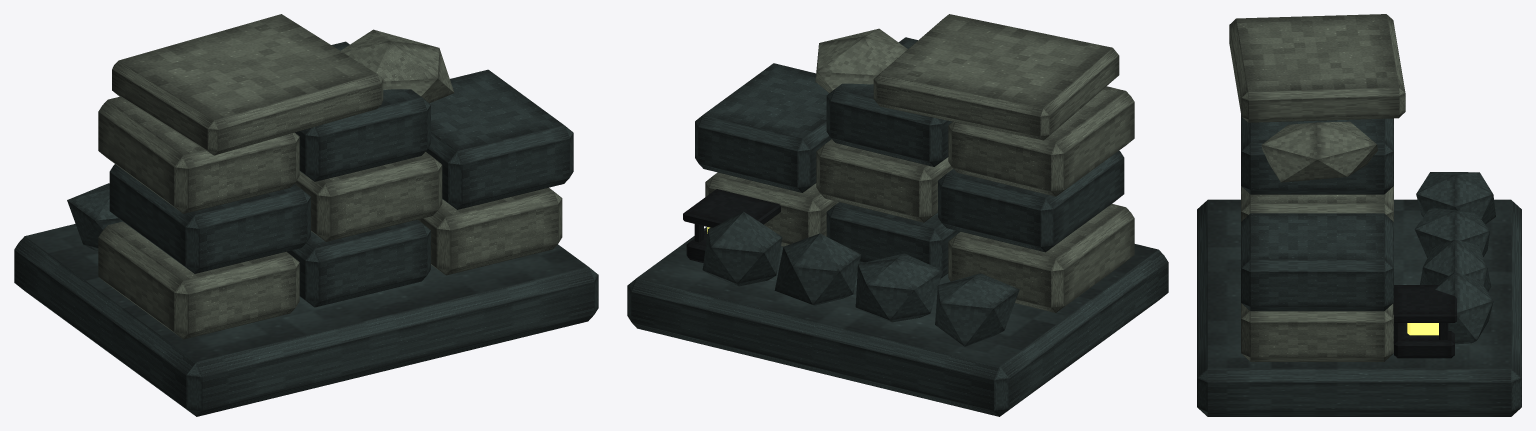
The model's file is THStage_Bay_04_BrokenWall.fbx.
3 views of the same model, side by side, from view 1: azimuth 30°, elevation 25°; view 2: azimuth 150°, elevation 25°; view 3: azimuth 270°, elevation 25° (orthographic). The views are drawn at different scales.
Visible parts, largest first — view 1: THStage_Bay_04_BrokenWall.010; view 2: THStage_Bay_04_BrokenWall.010; view 3: THStage_Bay_04_BrokenWall.010.
Boxes of the visible parts, x1,y1,x2,y2 form: THStage_Bay_04_BrokenWall.010: (14, 14, 598, 416); THStage_Bay_04_BrokenWall.010: (627, 14, 1168, 416); THStage_Bay_04_BrokenWall.010: (1197, 14, 1521, 416).
Bounding box in the file's own units: 1.1 × 0.705 × 0.85.
Materials: 2 (1 with a texture image).
